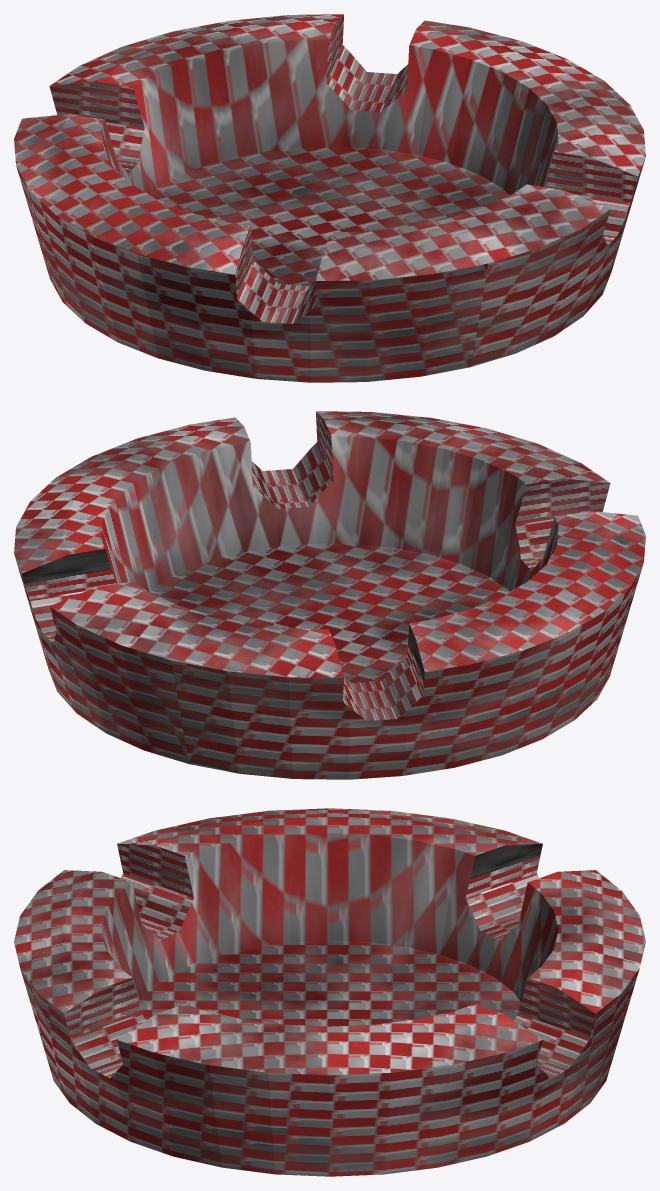
The model's file is Ash tray.glb.
3 renders of one model, top to bottom at view 1: azimuth 30°, elevation 25°; view 2: azimuth 150°, elevation 25°; view 3: azimuth 270°, elevation 25°, orthographic.
Parts seen in each view (by area): view 1: Ash; view 2: Ash; view 3: Ash.
Part boxes in pixels (x1,y1,x2,y2): Ash: (14,14,645,382); Ash: (14,411,645,779); Ash: (14,808,645,1176).
Size of what is drawn, in the model's own units: 2.24 by 0.5 by 2.24.
1 material, 1 textured.
